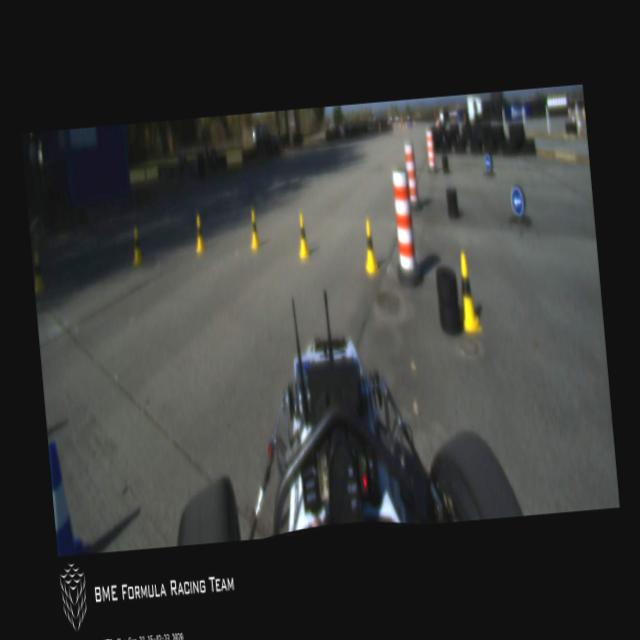blue_cone: (48, 437, 88, 555)
yellow_cone: (452, 250, 482, 332), (362, 218, 378, 274), (296, 212, 310, 258), (32, 252, 46, 296), (129, 226, 143, 268), (192, 212, 205, 254), (248, 209, 260, 250)
